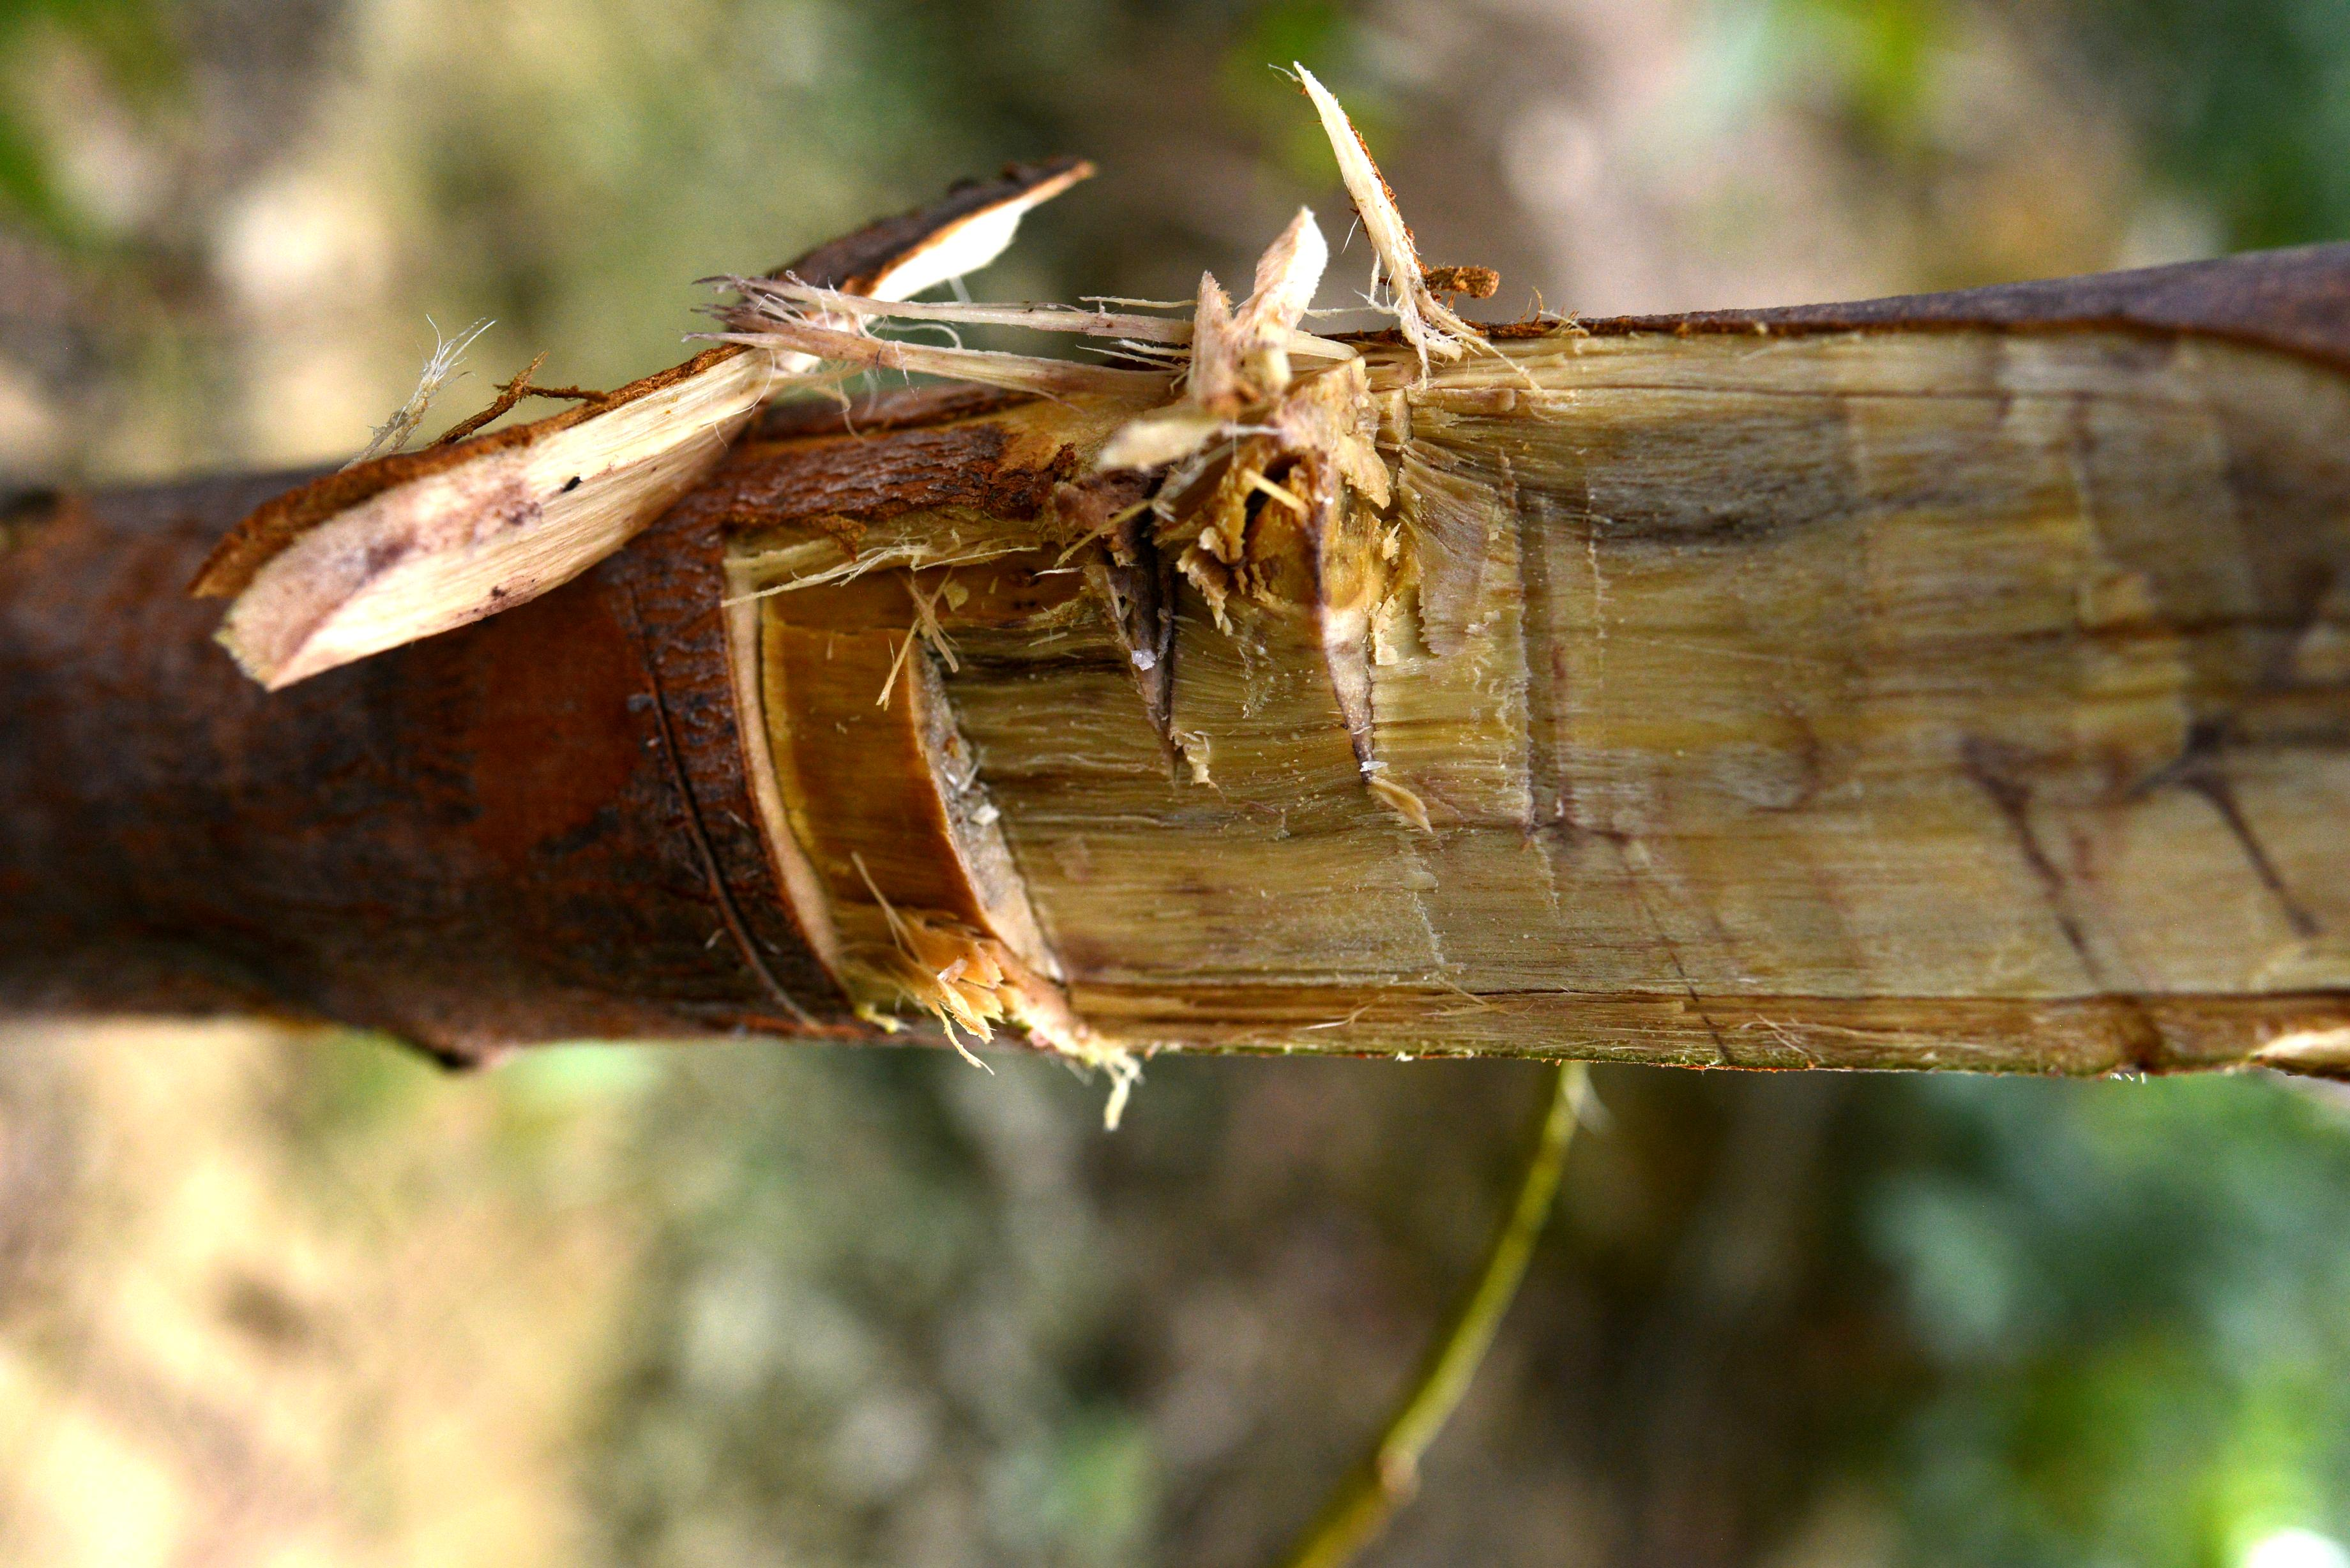Ralstonia: (810, 304, 2322, 1048)
